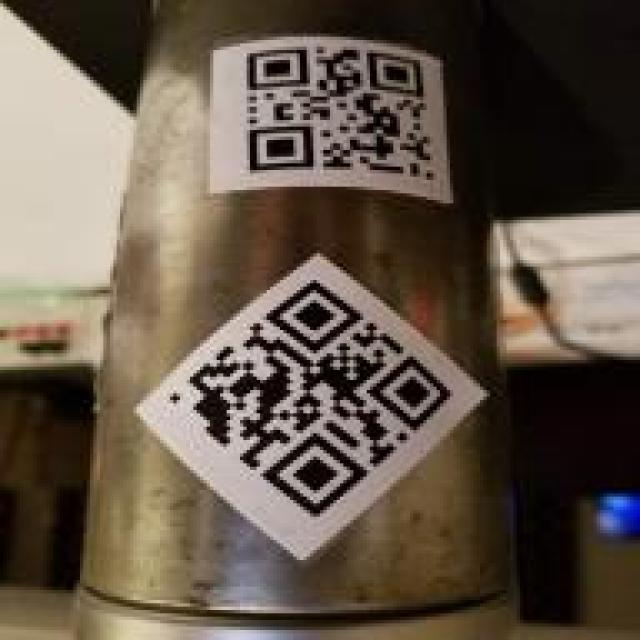qr_code: (166, 279, 453, 516), (245, 47, 436, 184)
